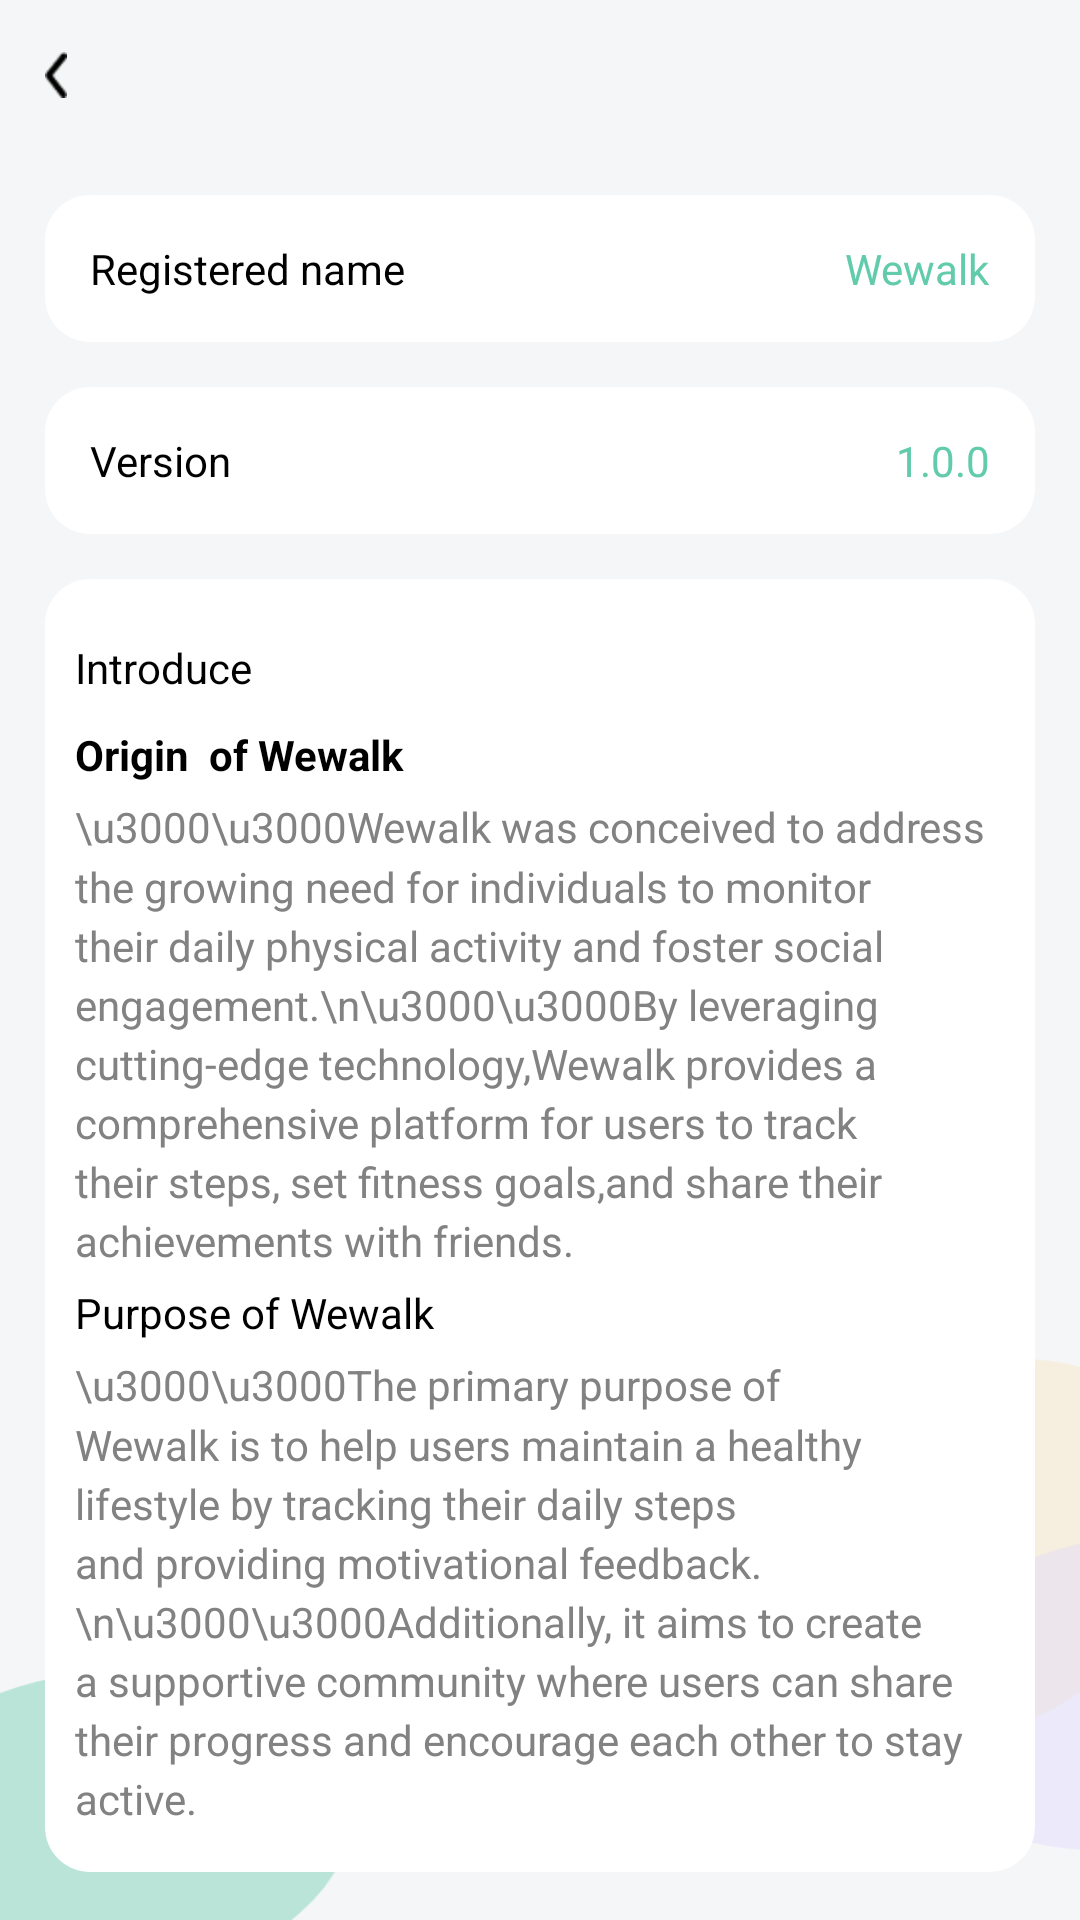

Named icons in this screenshot (1080px×1920px) and their centers, [x,y]:
left: [56,75]
